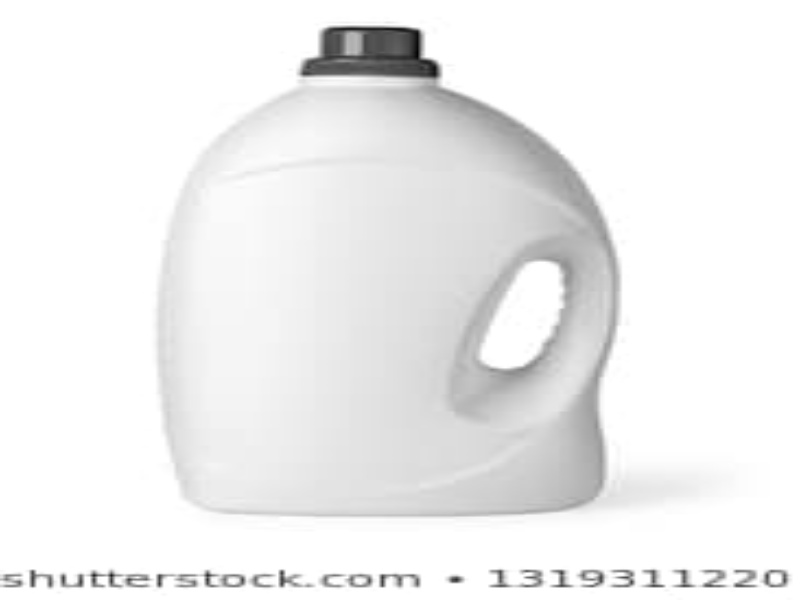bottle-cap: (292, 23, 444, 81)
detergent-bottle: (153, 21, 625, 519)
